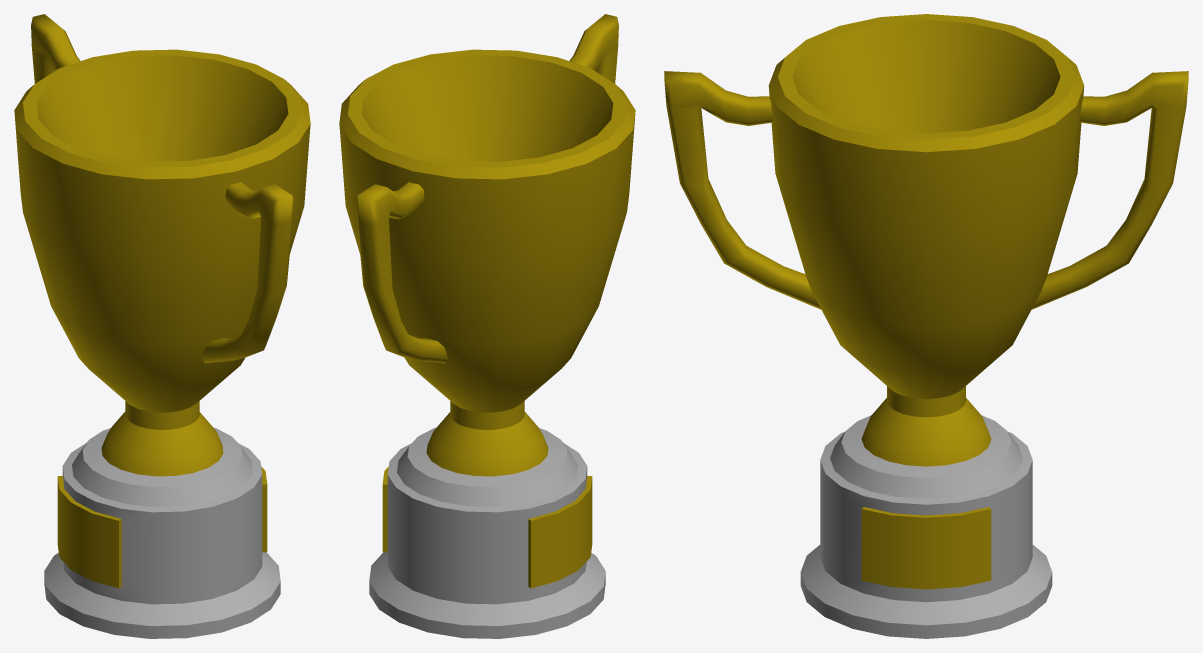
Rendered from Trophy_01.fbx.
The picture shows the model from 3 angles, left to right: view 1: azimuth 30°, elevation 25°; view 2: azimuth 150°, elevation 25°; view 3: azimuth 270°, elevation 25°; orthographic projection. The views are drawn at different scales.
Parts seen in each view (by area): view 1: pCylinder2; view 2: pCylinder2; view 3: pCylinder2.
Part boxes in pixels (x1,y1,x2,y2): pCylinder2: [14, 14, 310, 638]; pCylinder2: [339, 14, 635, 638]; pCylinder2: [664, 14, 1188, 638].
Size of the model in its own units: 156 by 279 by 260.
